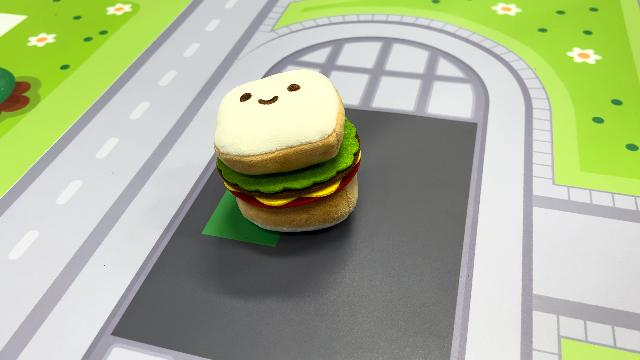sandwich: (212, 66, 364, 234)
